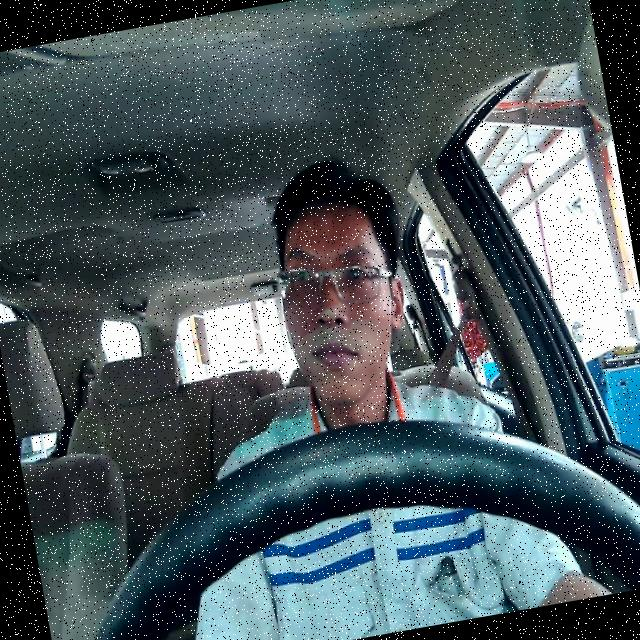focused: (261, 190, 421, 414)
